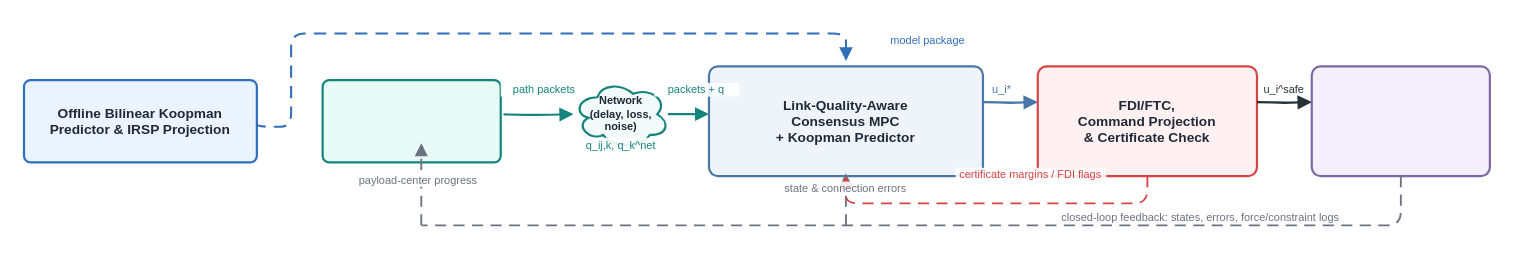
Image size: 1515x262. Some labels were removed from this diagram. The centre of each missing label's shape, as x and y in pixels:
Upper-Layer Reference & Path Publisher: (411,120)
Vehicle-Payload System & Feedback: (1400,120)
